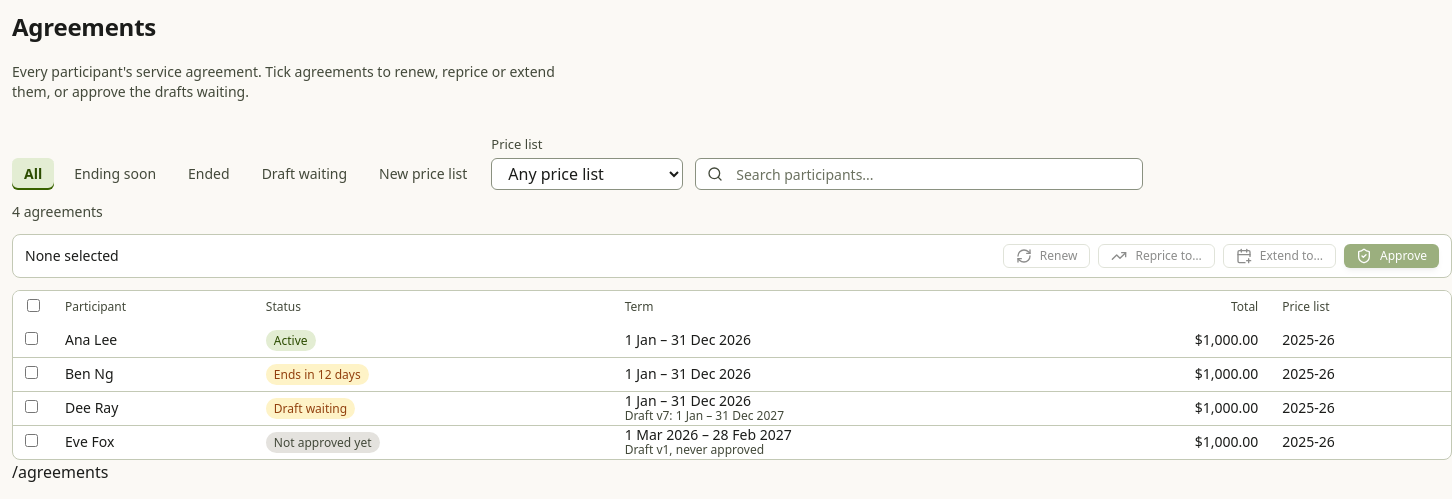
Test: AgreementsPage › narrows by Show and writes it to the address, and says why nothing matches
The image size is (1452, 499).
Click the radio button labelled "Draft waiting" at x=304, y=174, box [250, 158, 359, 190]
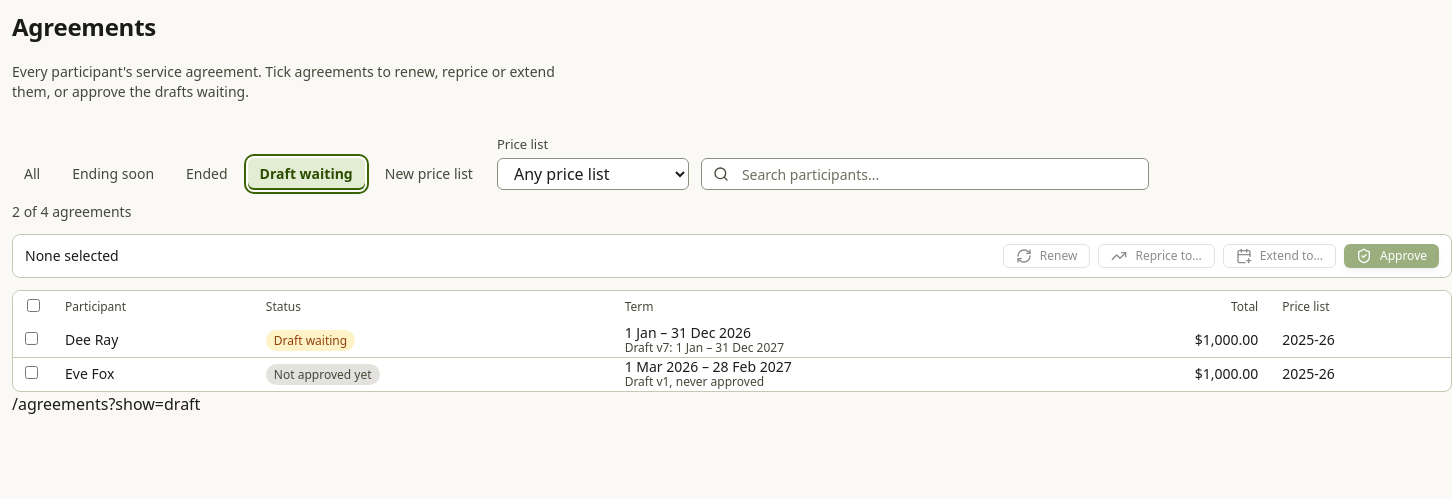
expect the text with test id "where" reads "/agreements?show=draft": met, box [12, 393, 200, 415]
expect the text "2 of 4 agreements" is shown: met, box [12, 202, 131, 221]
Click the radio button labelled "Ended" at x=207, y=174, box [174, 158, 240, 190]
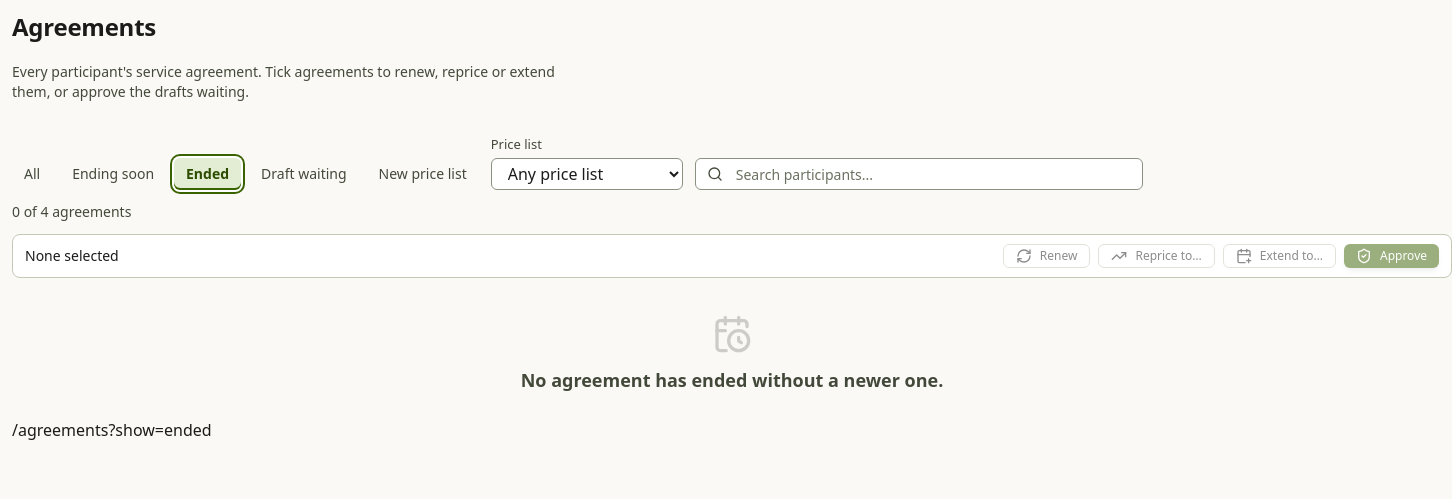
expect the text "No agreement has ended without a newer one." is shown: met, box [521, 366, 943, 394]
